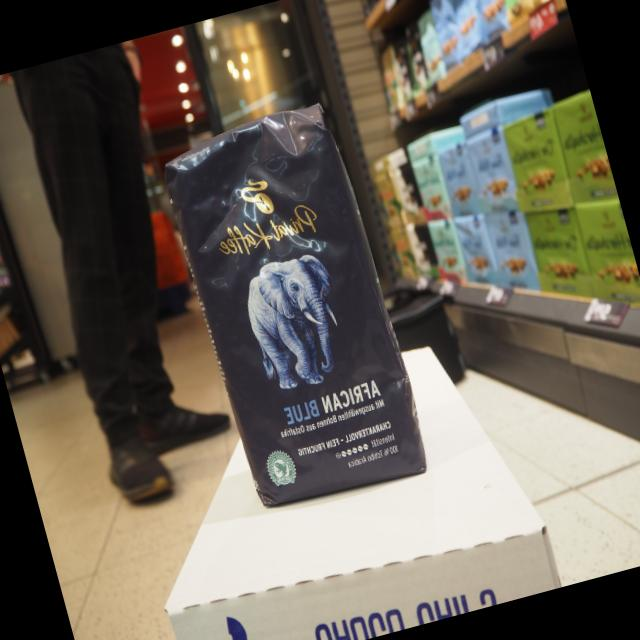AB Bohne: (155, 94, 435, 521)
